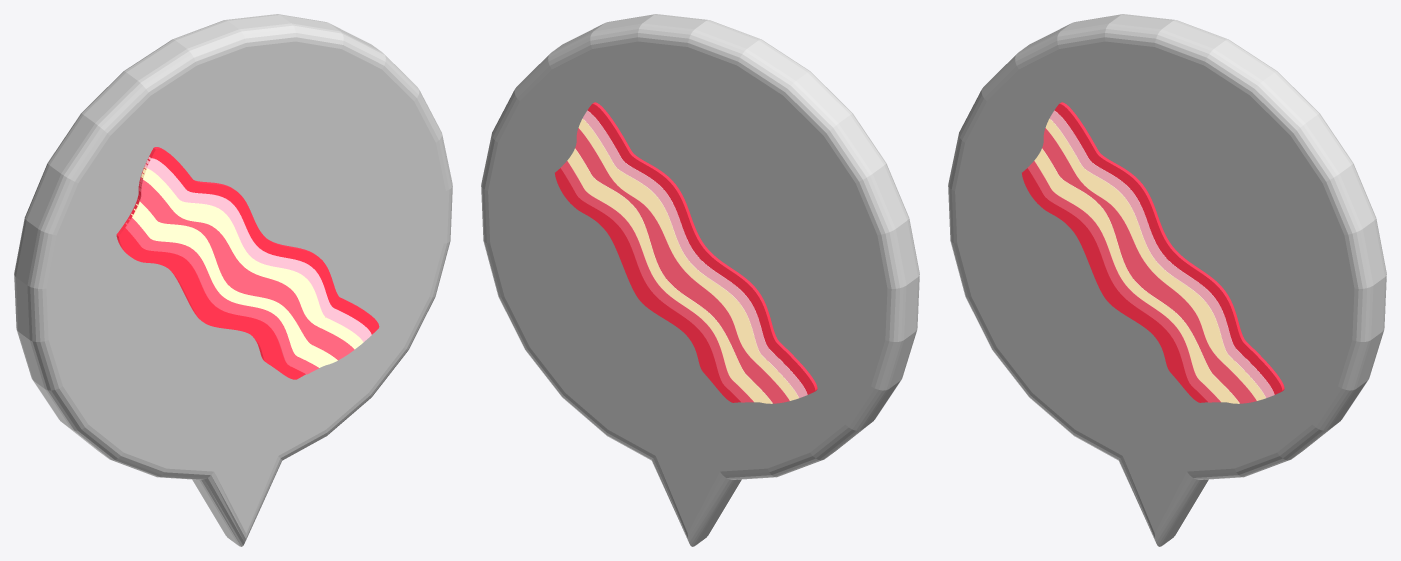
The model's file is bacon.glb.
3 views of the same model, side by side, from view 1: azimuth 30°, elevation 25°; view 2: azimuth 150°, elevation 25°; view 3: azimuth 330°, elevation 25° (orthographic).
Parts seen in each view (by area): view 1: EmotionBubble; view 2: EmotionBubble; view 3: EmotionBubble.
Boxes of the visible parts, x1,y1,x2,y2 form: EmotionBubble: [14, 14, 452, 546]; EmotionBubble: [481, 14, 919, 546]; EmotionBubble: [948, 14, 1386, 546].
Size of the model in its own units: 5.29 by 6.16 by 0.7.
